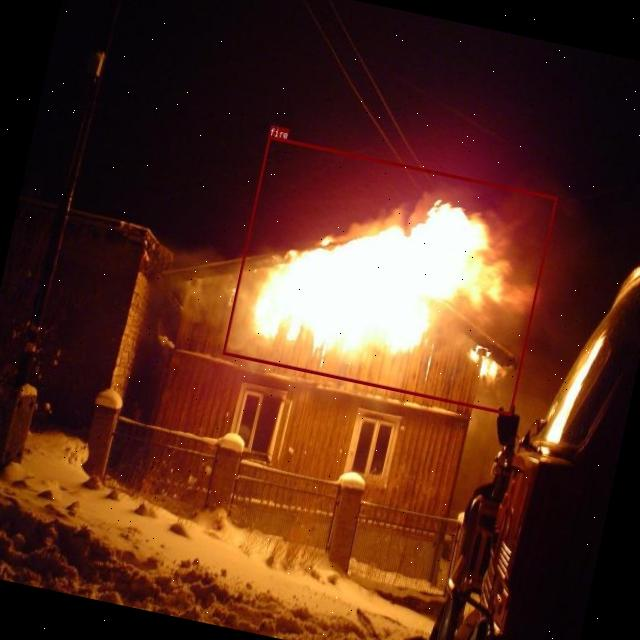fire: (222, 136, 557, 414)
